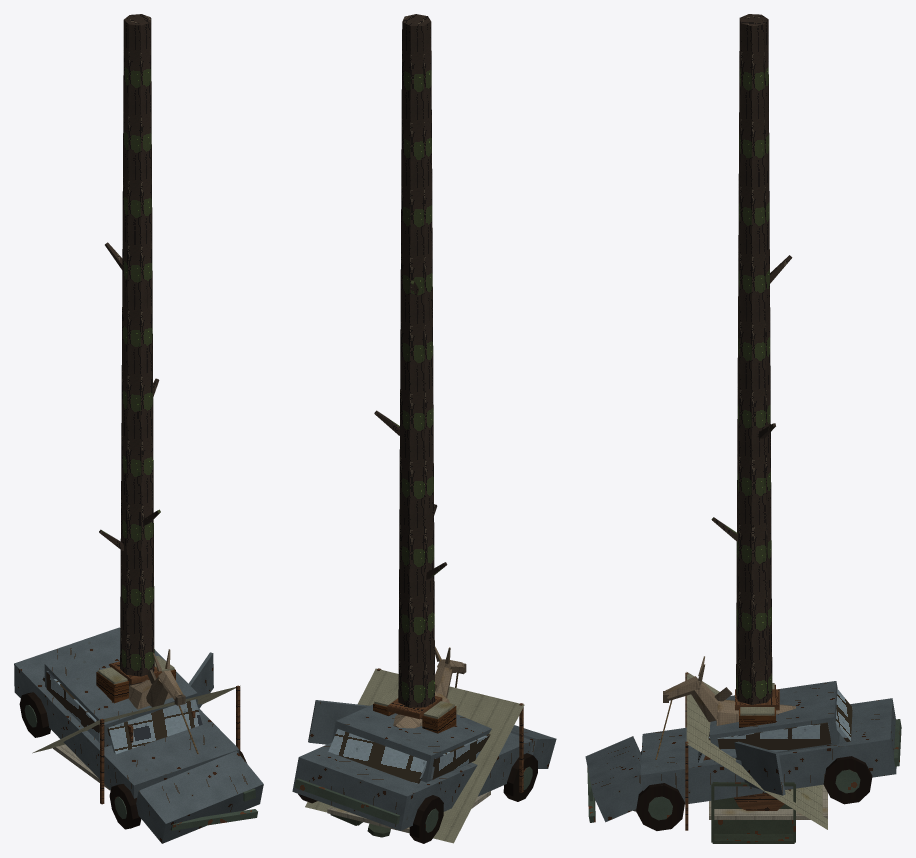
Rendered from mascate.glb.
3 views of the same model, side by side, from view 1: azimuth 30°, elevation 25°; view 2: azimuth 150°, elevation 25°; view 3: azimuth 270°, elevation 25° (orthographic). The views are drawn at different scales.
Visible parts, largest first — view 1: carro, tronco, mula, lona; view 2: tronco, carro, lona, mula; view 3: carro, tronco, lona, mula, vagonete, carroca.
Part boxes in pixels (left/top/right/bottom): carro: left=14, top=627, right=263, bottom=843; tronco: left=99, top=14, right=160, bottom=685; mula: left=96, top=649, right=198, bottom=754; lona: left=32, top=685, right=240, bottom=804; tronco: left=374, top=14, right=447, bottom=719; carro: left=292, top=700, right=556, bottom=843; lona: left=305, top=668, right=524, bottom=843; mula: left=373, top=646, right=466, bottom=733; carro: left=585, top=681, right=901, bottom=830; tronco: left=711, top=14, right=792, bottom=704; lona: left=685, top=672, right=827, bottom=830; mula: left=655, top=656, right=795, bottom=759; vagonete: left=633, top=782, right=795, bottom=843; carroca: left=703, top=755, right=790, bottom=810.
Size of the model in its own units: 2.6 by 11.95 by 4.25.
16 materials, 16 textured.
